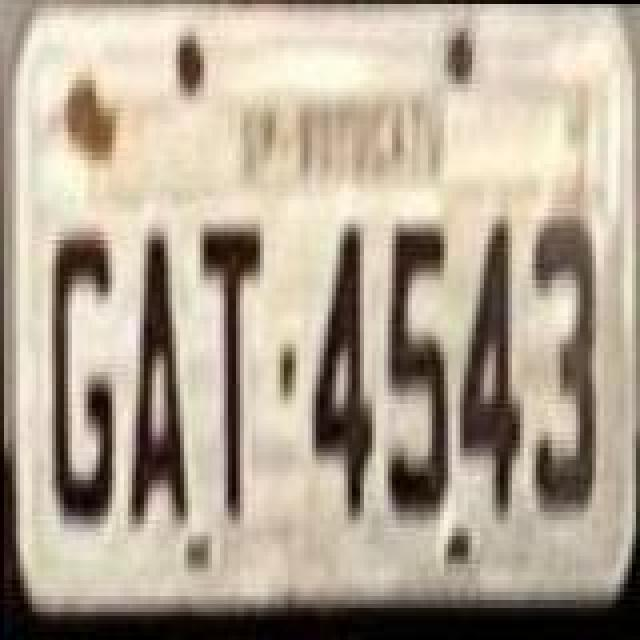3: (528, 212, 596, 516)
4: (310, 218, 374, 522), (458, 218, 522, 522)
5: (386, 218, 450, 522)
A: (126, 224, 190, 536)
G: (50, 226, 114, 526)
T: (196, 222, 264, 526)
